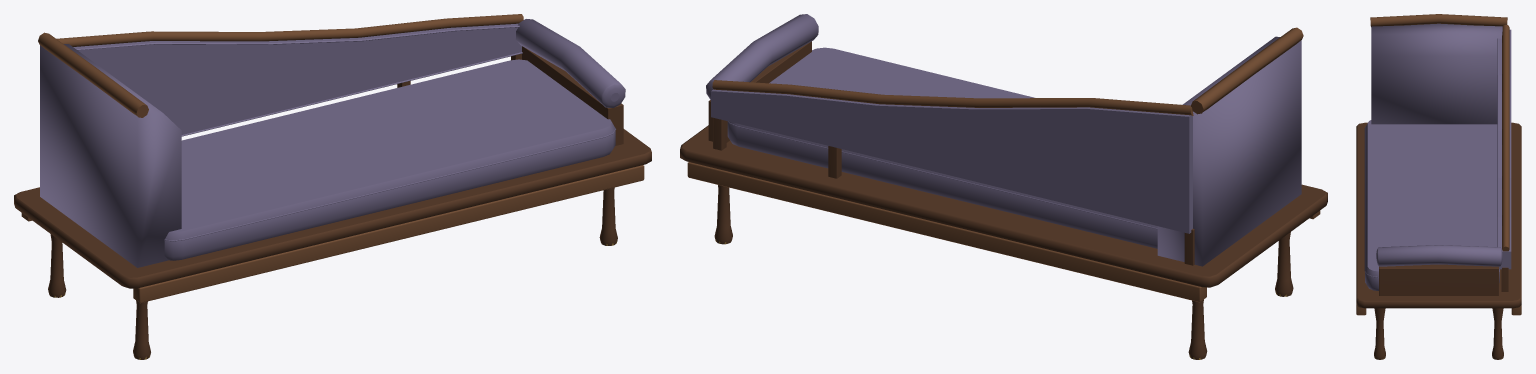
The model's file is rpg-mansion-asymmetric-fainting-couch-01.glb.
3 renders of one model, left to right at view 1: azimuth 30°, elevation 25°; view 2: azimuth 150°, elevation 25°; view 3: azimuth 270°, elevation 25°, orthographic. The views are drawn at different scales.
Visible parts, largest first — view 1: rpg-mansion-asymmetric-fainting-couch-01; view 2: rpg-mansion-asymmetric-fainting-couch-01; view 3: rpg-mansion-asymmetric-fainting-couch-01.
Boxes of the visible parts, x1=… form: rpg-mansion-asymmetric-fainting-couch-01: x1=14, y1=14, x2=651, y2=359; rpg-mansion-asymmetric-fainting-couch-01: x1=680, y1=14, x2=1327, y2=359; rpg-mansion-asymmetric-fainting-couch-01: x1=1356, y1=14, x2=1521, y2=359.
Size of the model in its own units: 2.05 by 0.97 by 0.8.
